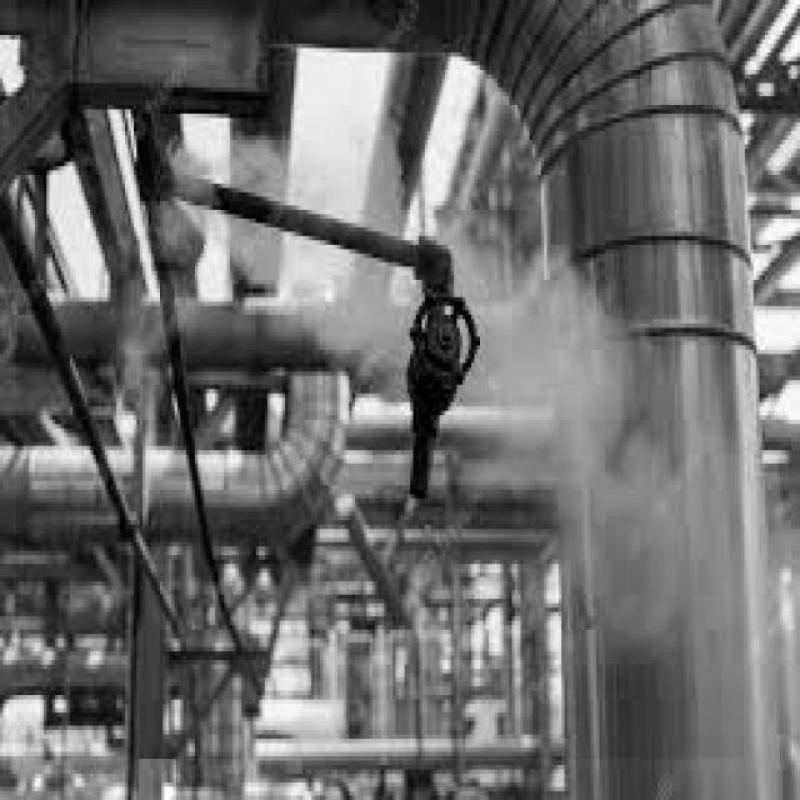Fracture: (98, 125, 544, 474)
